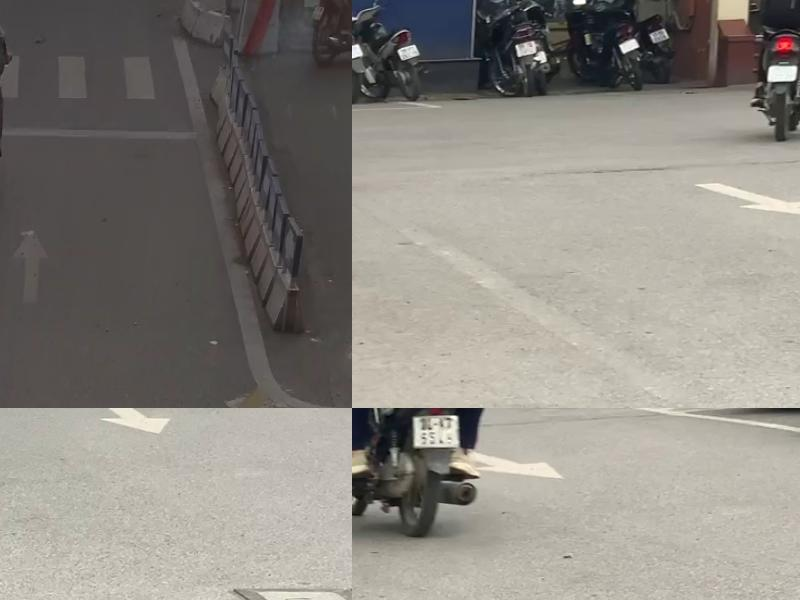license_plate: (416, 412, 468, 450), (518, 35, 544, 60), (399, 43, 427, 65), (618, 34, 645, 54), (772, 65, 800, 81), (652, 26, 675, 45), (352, 39, 368, 62)
motorcyclist: (352, 408, 526, 537), (738, 0, 800, 140), (0, 0, 29, 206)
